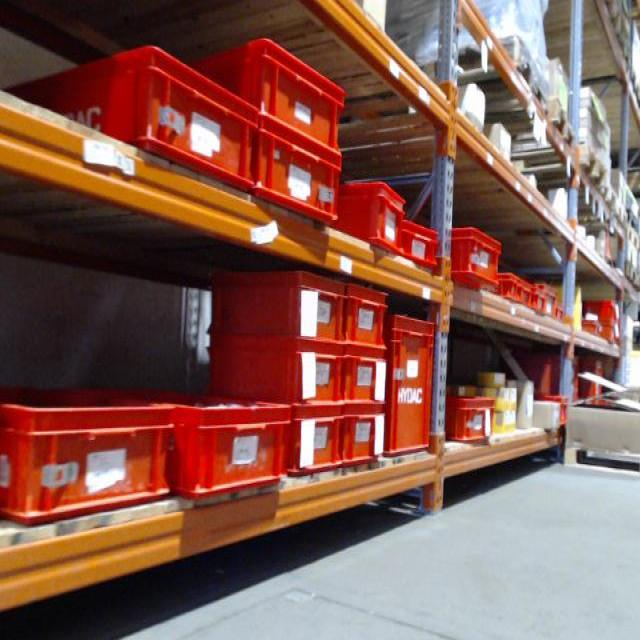pallet: (386, 31, 545, 139), (486, 146, 612, 202), (567, 183, 630, 233), (546, 93, 570, 175)
small_load_carrier: (1, 45, 257, 198), (58, 382, 294, 504), (1, 390, 174, 531), (186, 35, 347, 147), (212, 266, 347, 348), (248, 117, 342, 226), (207, 333, 344, 407), (375, 309, 434, 464), (322, 176, 407, 262), (279, 405, 348, 488), (443, 221, 503, 290), (339, 290, 392, 354), (441, 387, 492, 450), (339, 354, 394, 409), (340, 406, 389, 466), (400, 215, 438, 266), (500, 266, 532, 309), (533, 396, 574, 426), (577, 296, 625, 321), (537, 275, 558, 316), (604, 324, 626, 347), (575, 317, 606, 333), (533, 288, 540, 316)
